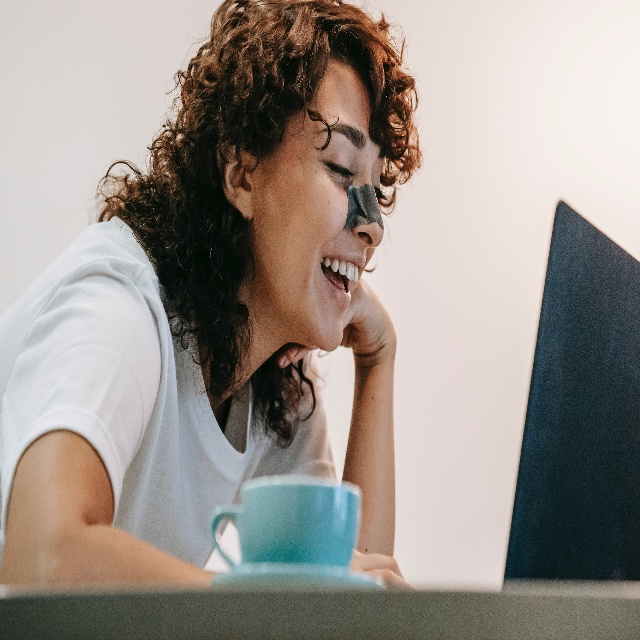Sin_guantes: (277, 277, 397, 369), (350, 553, 415, 591)
